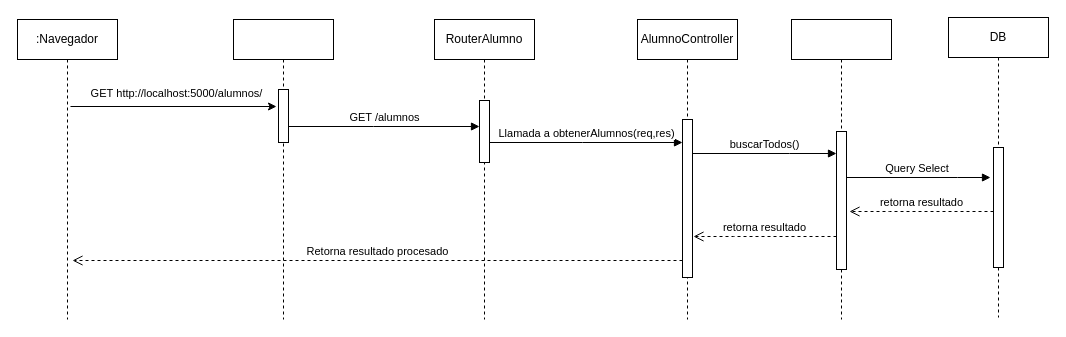
Image size: 1066x337. Some labels were removed from this diagram. The shapes that lost their labels are listed below. From the top down, each one's centre as x and y in pixels, then its label:
At point (283, 169): "Servidor".
At point (841, 169): "AlumnoModel".
